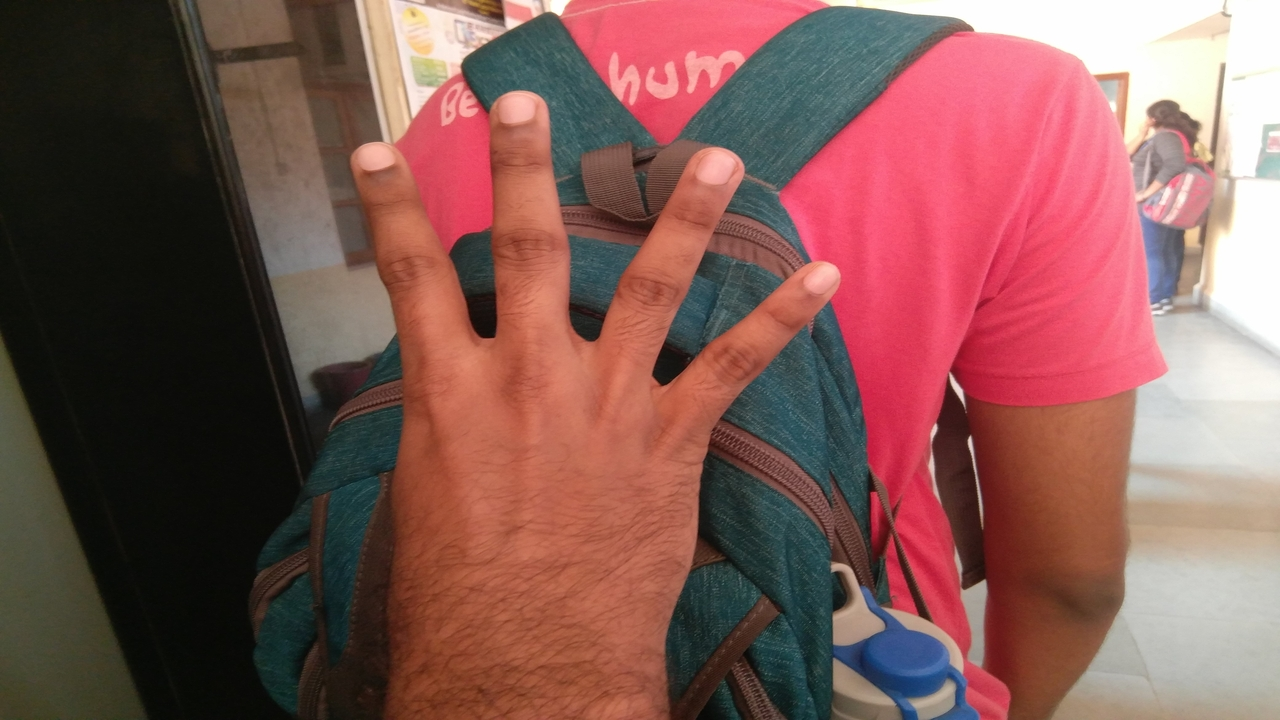fingertip: (676, 140, 750, 204), (338, 128, 408, 194), (778, 248, 850, 312), (484, 82, 550, 150)
